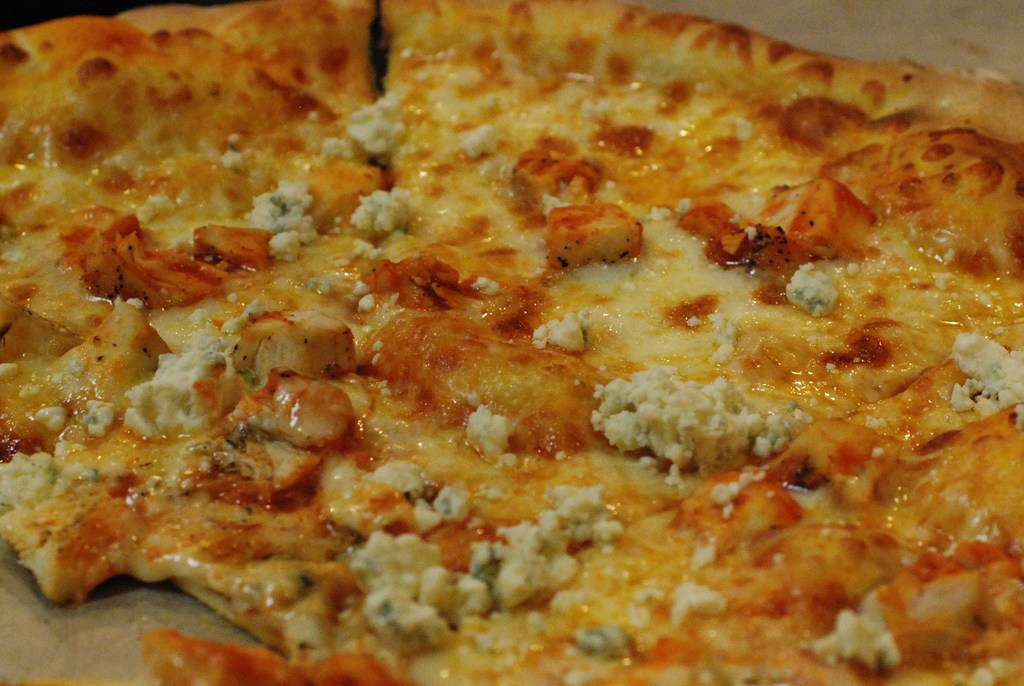Pizza: (0, 0, 1024, 676)
